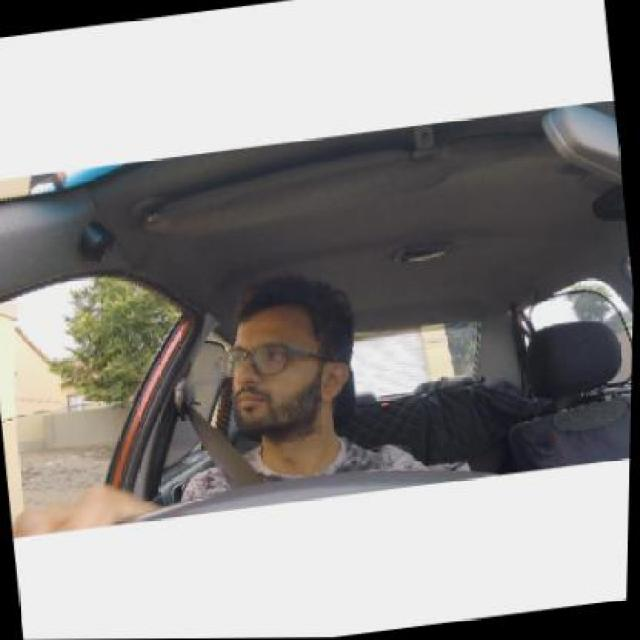person: (230, 302, 352, 434)
